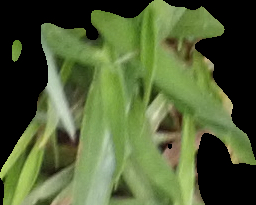grass: (1, 1, 255, 203)
